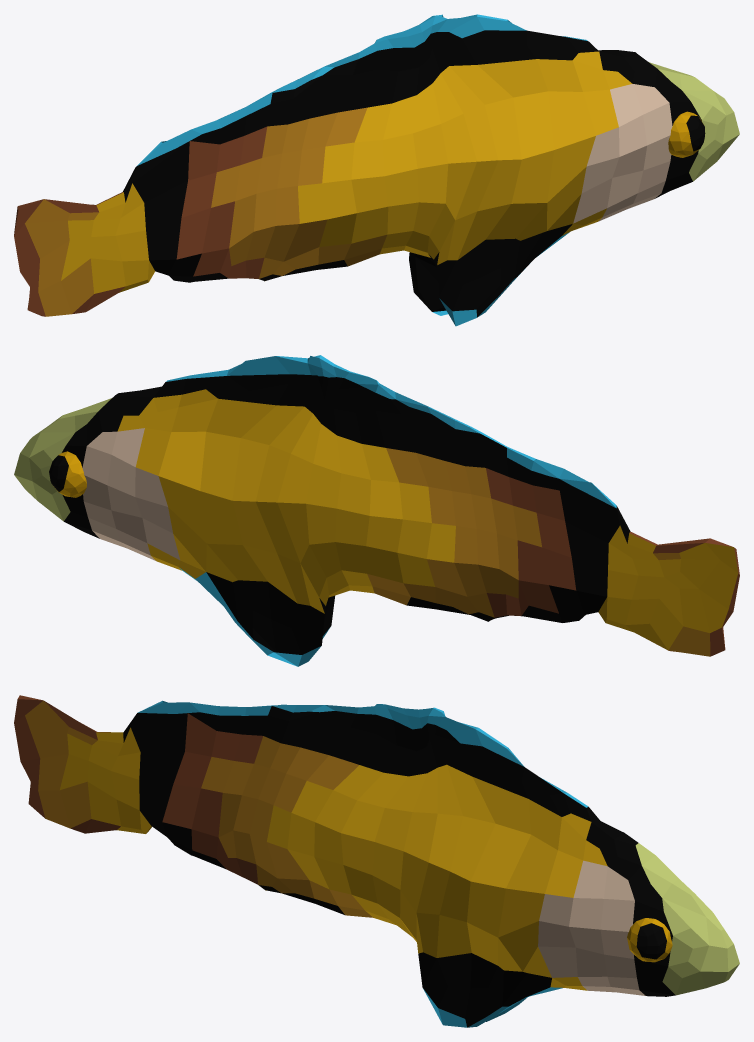
File: DOTTYBACK.fbx
3 views of the same model, one above another, from view 1: azimuth 30°, elevation 25°; view 2: azimuth 150°, elevation 25°; view 3: azimuth 330°, elevation 25° (orthographic).
Parts seen in each view (by area): view 1: Sphere.007; view 2: Sphere.007; view 3: Sphere.007.
Boxes of the visible parts, x1,y1,x2,y2 form: Sphere.007: [14, 14, 739, 326]; Sphere.007: [14, 355, 739, 666]; Sphere.007: [14, 695, 739, 1027].
Bounding box in the file's own units: 6.47 × 2.66 × 0.8328.
